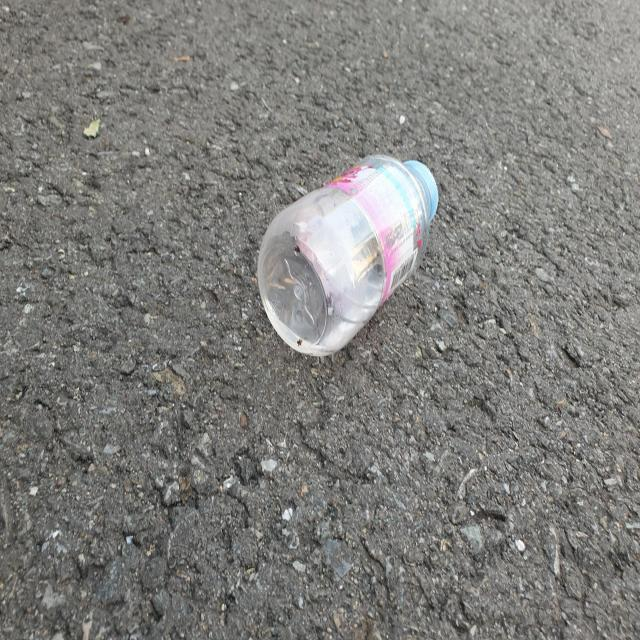plastic: (257, 154, 439, 356)
